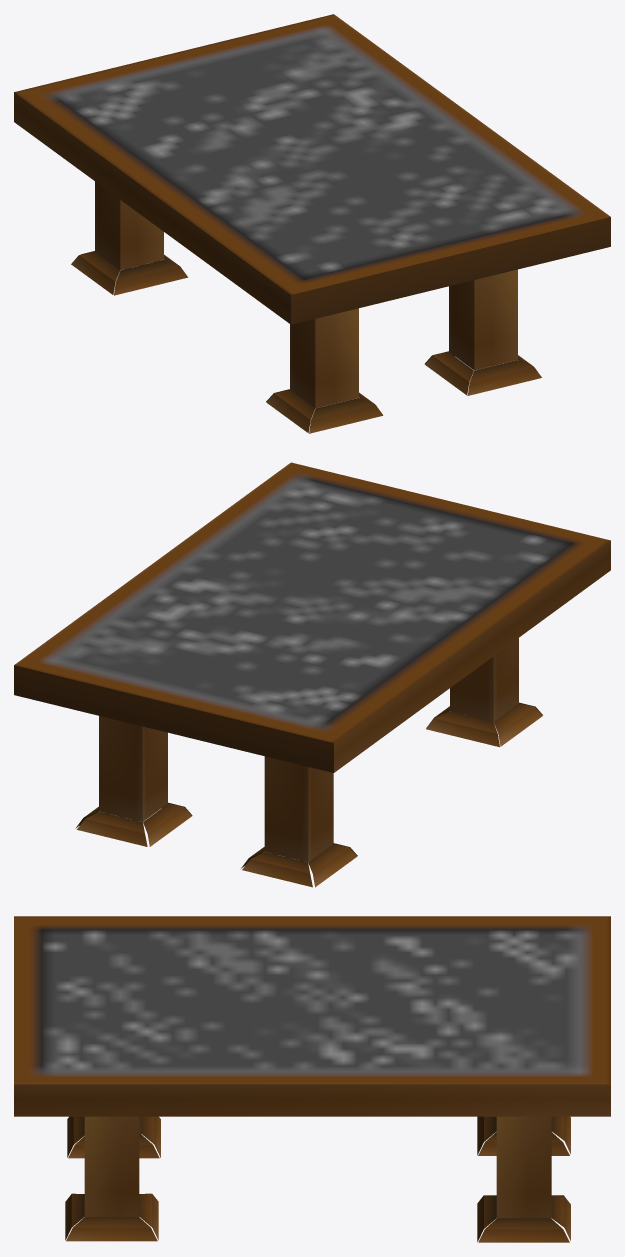
Rendered from table_1002x01.obj.
3 views of the same model, one above another, from view 1: azimuth 30°, elevation 25°; view 2: azimuth 150°, elevation 25°; view 3: azimuth 270°, elevation 25° (orthographic). The views are drawn at different scales.
Parts seen in each view (by area): view 1: Table_1002x1; view 2: Table_1002x1; view 3: Table_1002x1.
Boxes of the visible parts, left/top/right/bottom form: Table_1002x1: left=14, top=14, right=610, bottom=433; Table_1002x1: left=14, top=462, right=610, bottom=887; Table_1002x1: left=14, top=916, right=610, bottom=1242.
Size of the model in its own units: 4 by 2 by 6.
